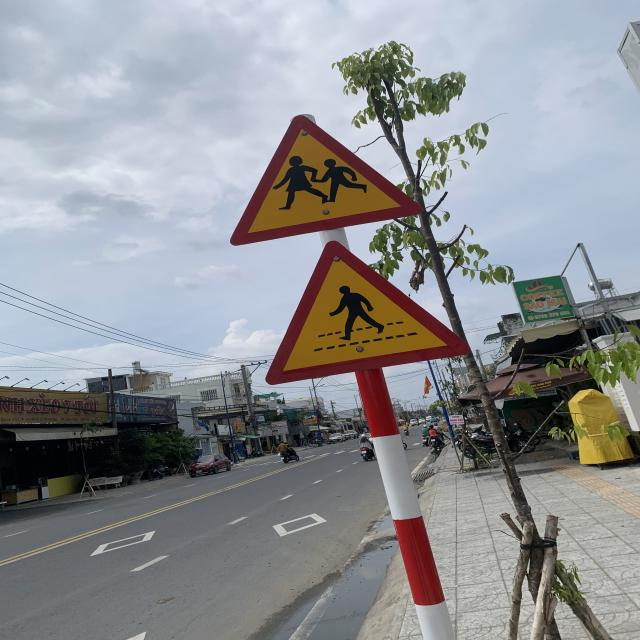Duong_Nguoi_Di_Bo_Sang_Ngang: (267, 239, 469, 385)
Vong_Xuyen: (230, 116, 426, 246)
